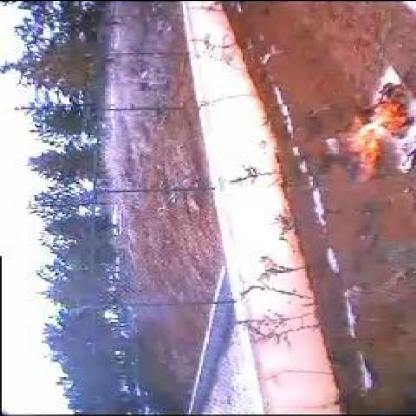-: (320, 152, 342, 172)
foggia-v2-map80-epoch100 - v1 4323: (348, 92, 408, 172)
